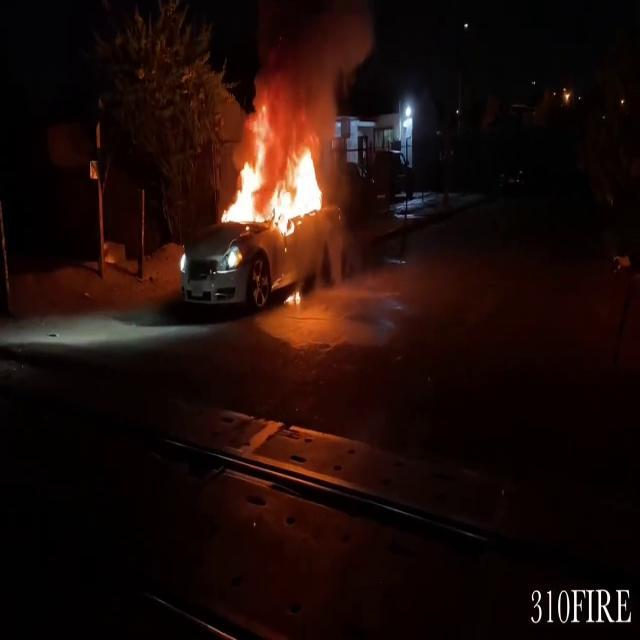Fire: (218, 114, 328, 238), (286, 280, 302, 310)
Smoke: (252, 1, 374, 139)
